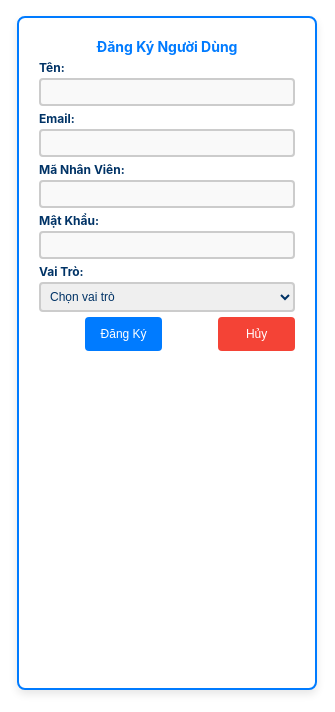
it: Register Component › displays student-specific fields when role is student
Step 1. Select "Sinh Viên" in the dropdown labelled "Vai Trò:" → [167, 297], box [39, 282, 295, 312]
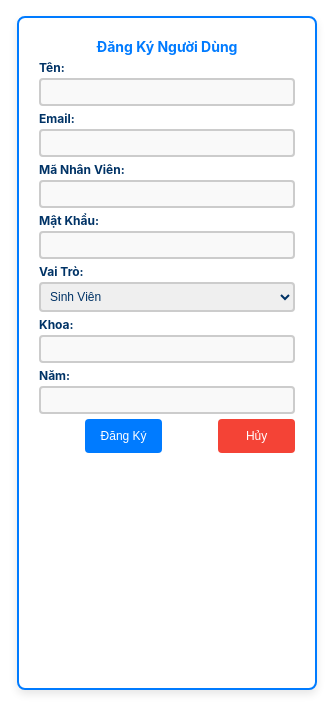
Result: the field labelled "Khoa:" is shown at [39, 335, 295, 363]
Result: the field labelled "Năm:" is shown at [39, 386, 295, 414]
